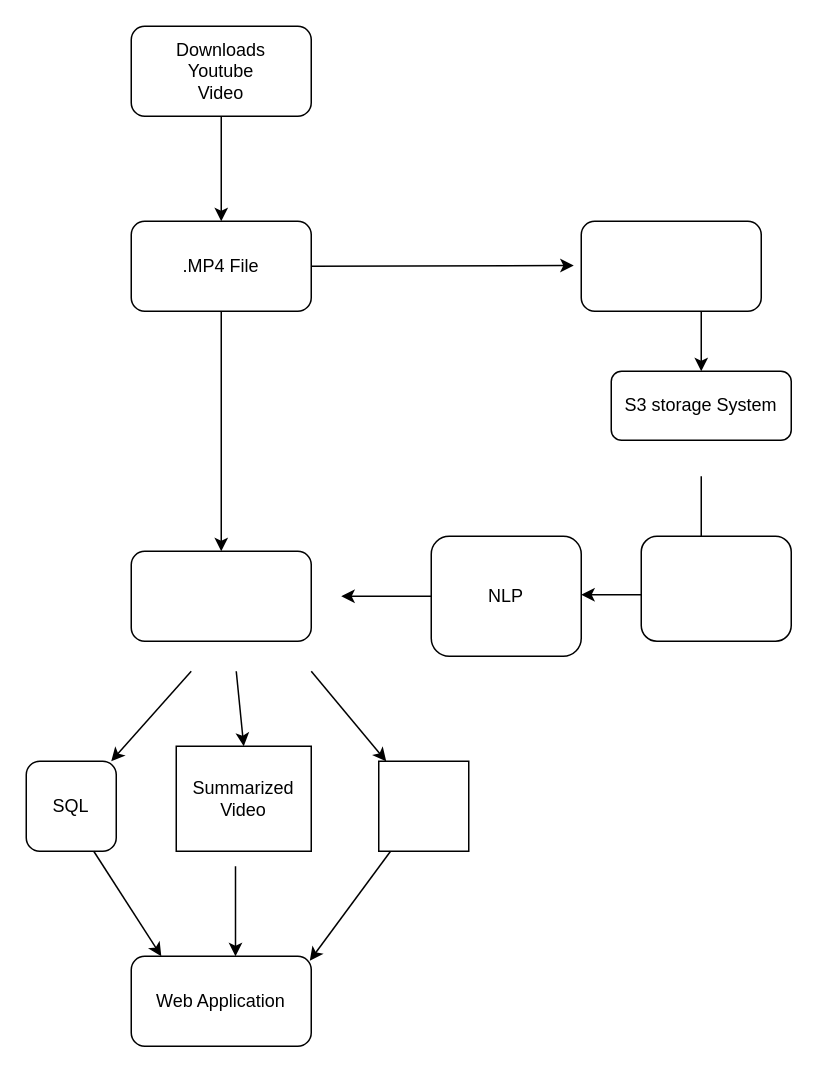
Some shapes in this 818 by 1073 pixel diagram are drawn without their labels. Here are the shapes that lost their labels. From the top down, the box of each, then its label:
(580, 220, 761, 311): .MP3 File
(130, 550, 311, 641): TIme Codes
(640, 535, 791, 641): AWS Transcribe
(377, 760, 469, 851): Word Cloud
